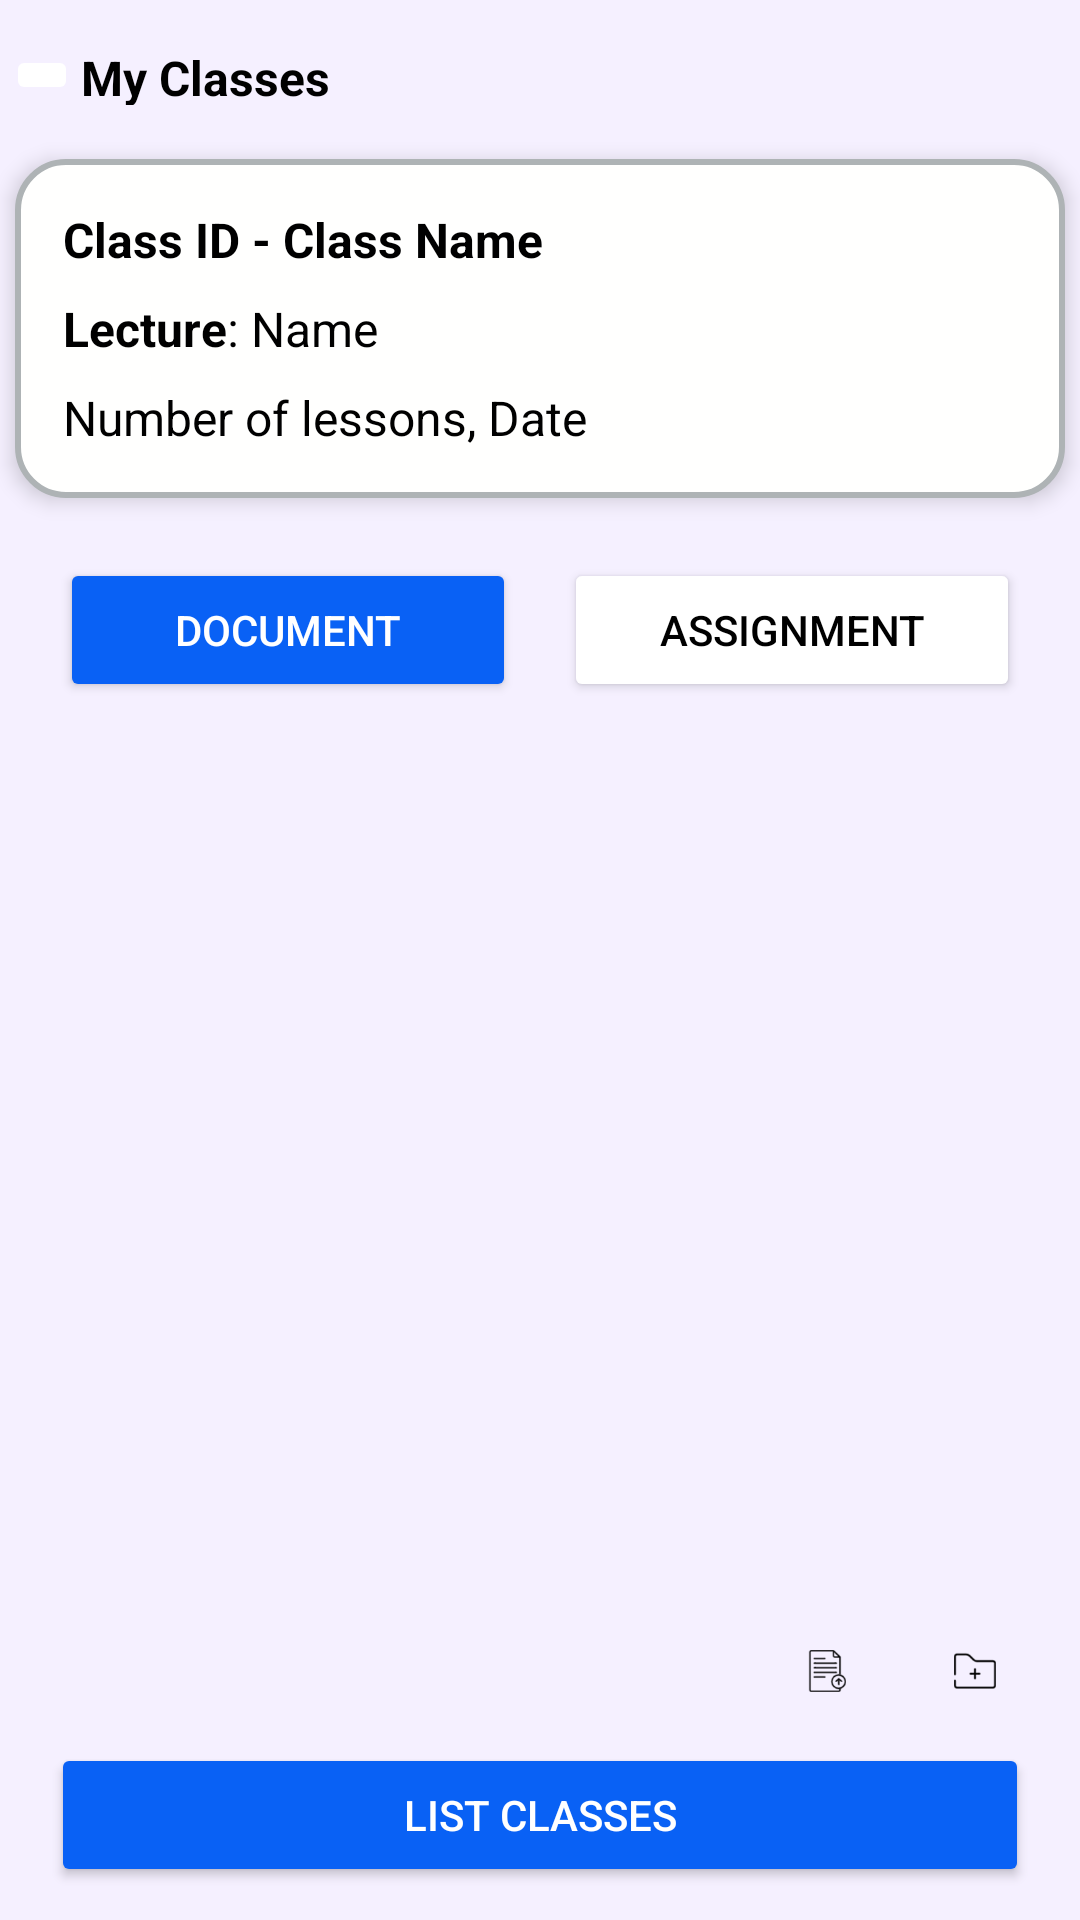

Screen size 1080×1920. Icon name, then its box in pixels as [x1,y1,x2,y2]:
Add File: [809,1650,846,1692]
Add Folder: [954,1653,996,1689]
